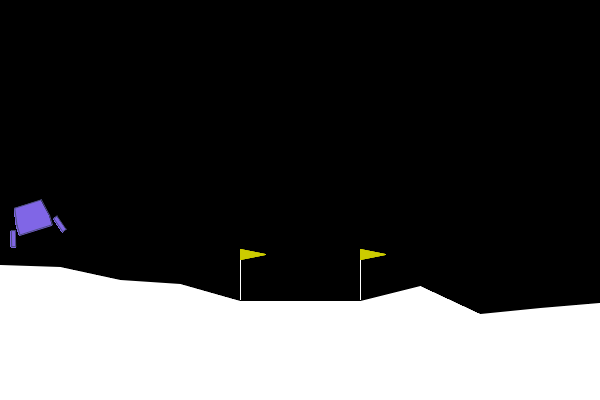lander: (0, 193, 68, 250)
